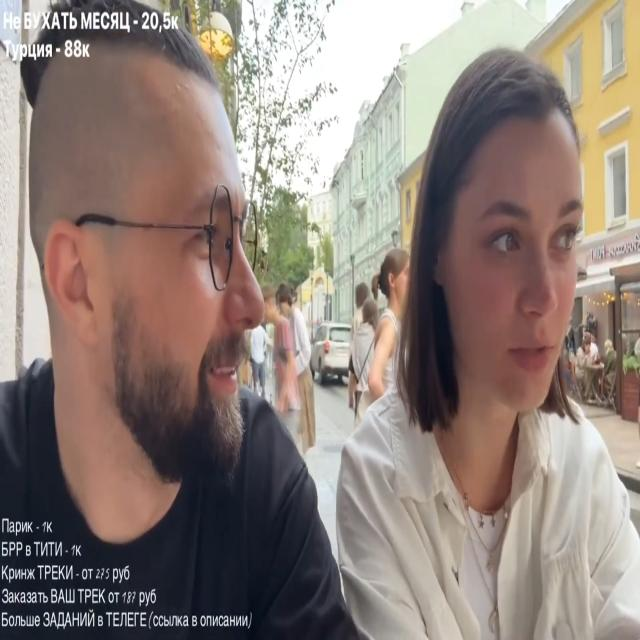Person: (0, 16, 365, 640), (335, 77, 639, 640), (267, 286, 314, 447), (350, 277, 377, 423), (573, 331, 604, 405)
